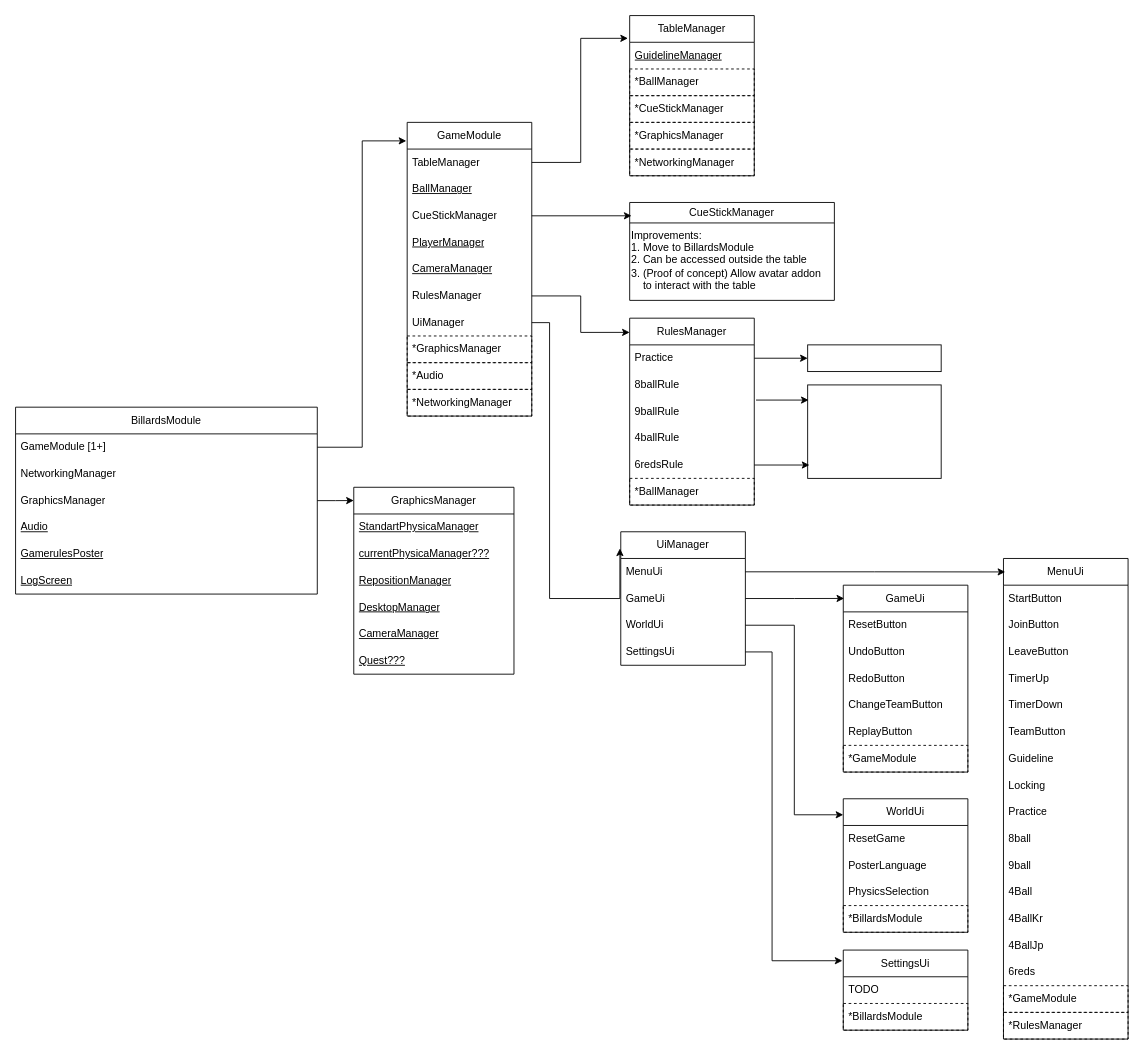
This 1144x1055 diagram has some shape labels left out. Here are the shapes that lost their labels. From the top down, the centre of each, then its label:
At (x=874, y=358): "PracticeMode (optional)".
At (x=874, y=431): "union: oneActive".
